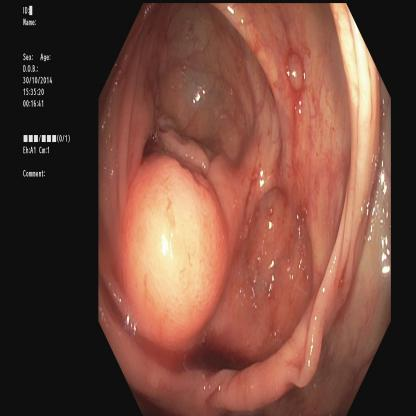Labels: (22, 7, 69, 187)
Polyps: (121, 153, 218, 342), (280, 37, 316, 102)
